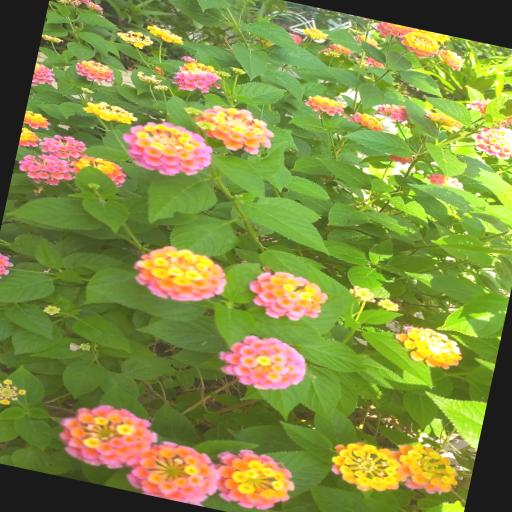Lantana: (59, 405, 156, 468), (134, 246, 226, 301), (216, 449, 294, 509), (123, 122, 211, 175), (219, 335, 305, 389), (248, 271, 327, 320), (195, 106, 273, 154), (331, 442, 402, 491), (19, 154, 72, 184), (472, 127, 512, 158)
